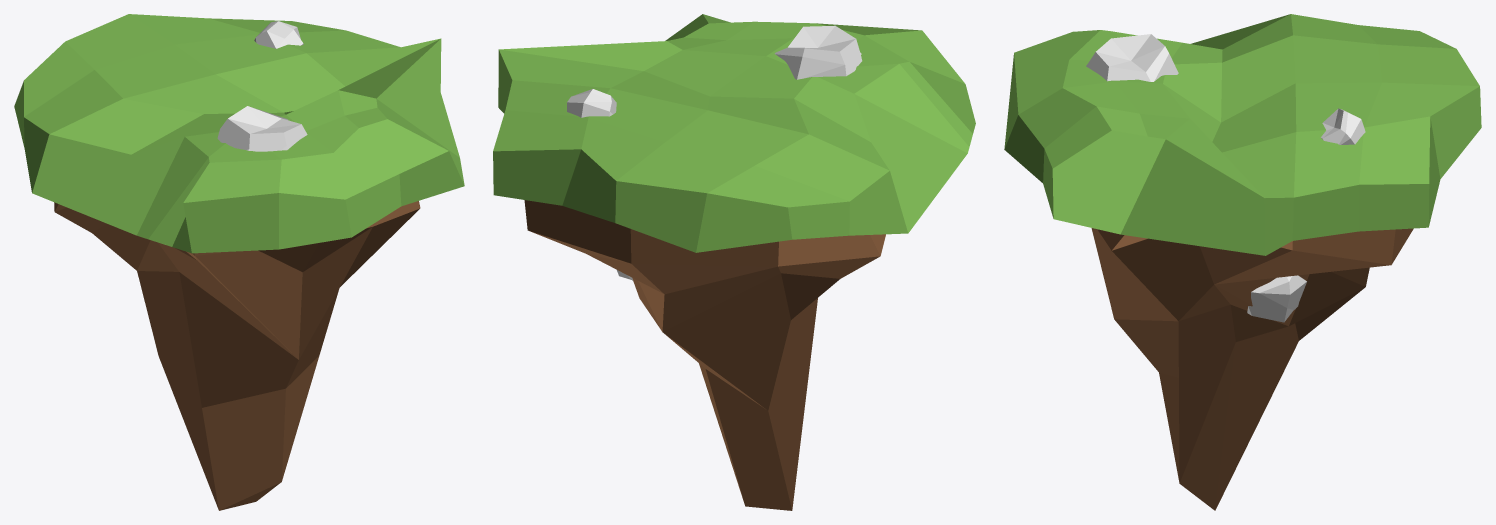
The model's file is plataforma 005 - fina.fbx.
3 renders of one model, left to right at view 1: azimuth 30°, elevation 25°; view 2: azimuth 150°, elevation 25°; view 3: azimuth 270°, elevation 25°, orthographic. The views are drawn at different scales.
Visible parts, largest first — view 1: topo, base, pedra1, pedra3; view 2: topo, base, pedra1, pedra3; view 3: topo, base, pedra1, pedra2, pedra3.
Boxes of the visible parts, x1,y1,x2,y2 form: topo: (14, 14, 464, 253); base: (54, 201, 420, 510); pedra1: (217, 106, 307, 151); pedra3: (254, 21, 303, 48); topo: (493, 14, 975, 252); base: (524, 200, 885, 510); pedra1: (774, 25, 862, 79); pedra3: (567, 89, 616, 117); topo: (1004, 14, 1481, 255); base: (1091, 228, 1413, 510); pedra1: (1086, 34, 1178, 81); pedra2: (1247, 275, 1306, 322); pedra3: (1321, 108, 1365, 144).
Bounding box in the file's own units: 254 × 257 × 248.
